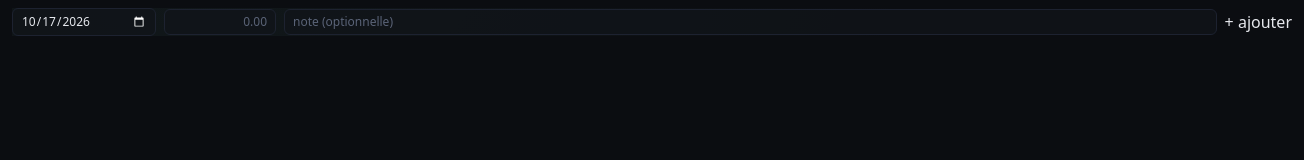
Scenario: BalanceCheckpointsDrawer › submits and displays a new checkpoint
The image size is (1304, 160).
In the date field named "date du point de contrôle": (84, 22) [12,8,156,36], type "2025-06-01"
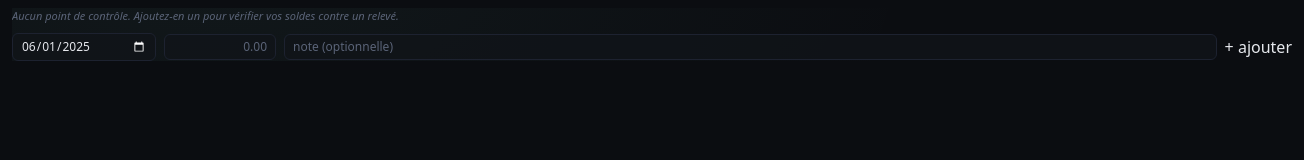
In the field named "montant attendu": (220, 46) [164,34,276,60], type "100.00"
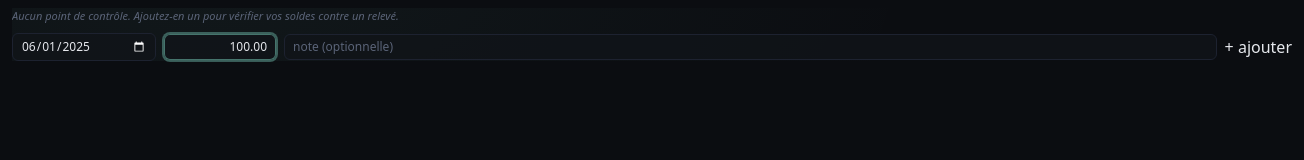
Click the button "+ ajouter": click(1258, 46) [1225,34,1292,58]
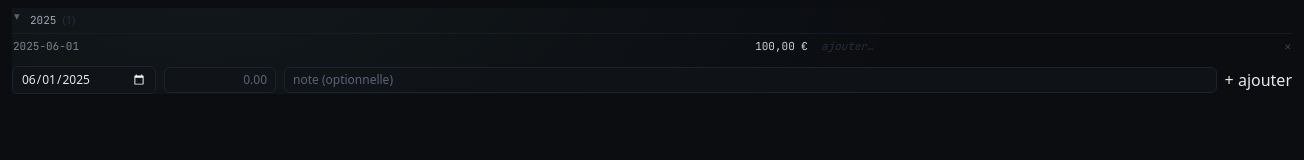
Expected: the button "2025-06-01" is shown, [13,38,79,54]
